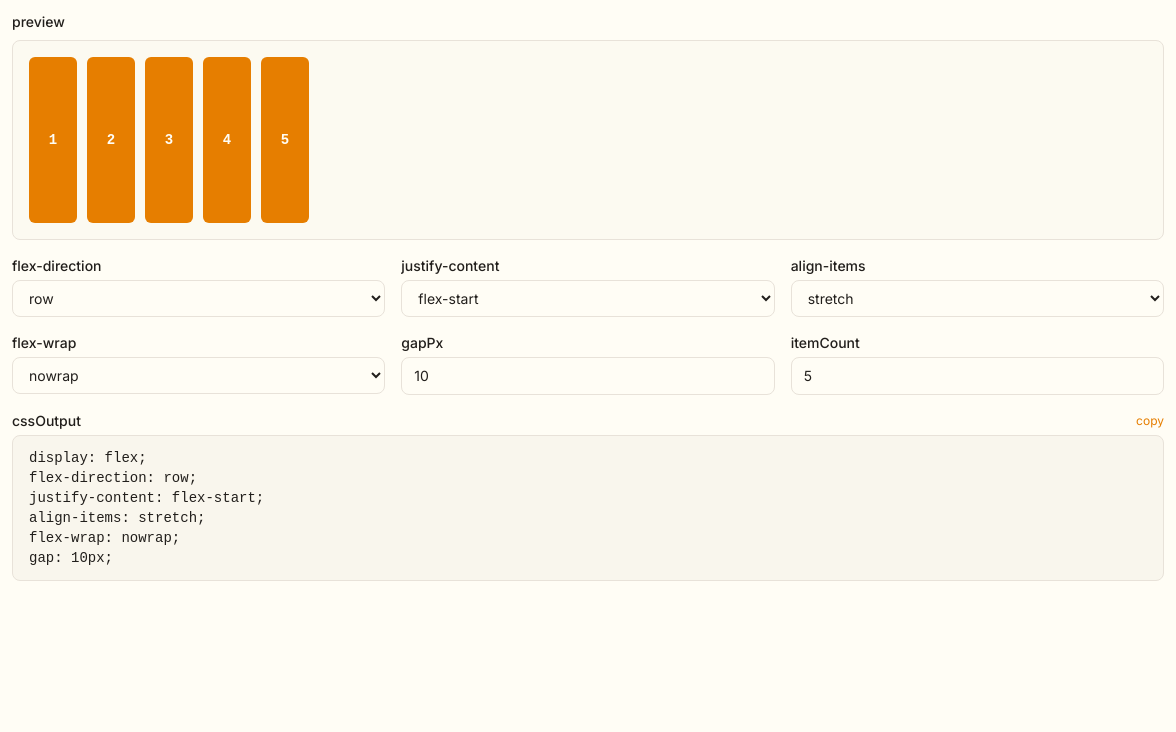
Test case: CssFlexboxGenerator › changes align-items
The width and height of the screenshot is (1176, 732).
Step 1. Select "center" in the dropdown labelled "align-items" → (977, 298), box [791,280,1164,317]
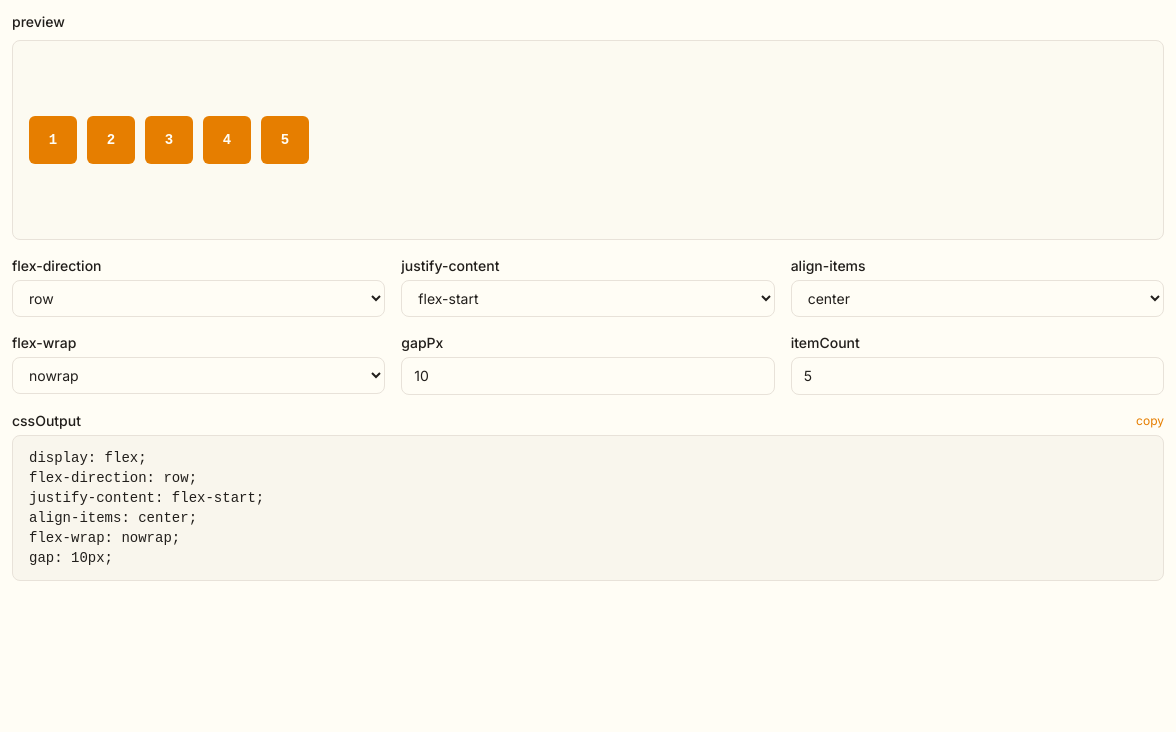
Now the text "align-items: center" is shown, box [29,450,264,566]
